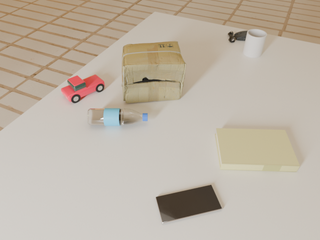book: (215, 128, 300, 172)
bottle: (87, 108, 148, 126)
box: (122, 41, 186, 103)
cup: (243, 29, 267, 58)
mouse: (228, 31, 247, 42)
phone: (156, 185, 222, 224)
toy_car: (61, 75, 105, 103)
